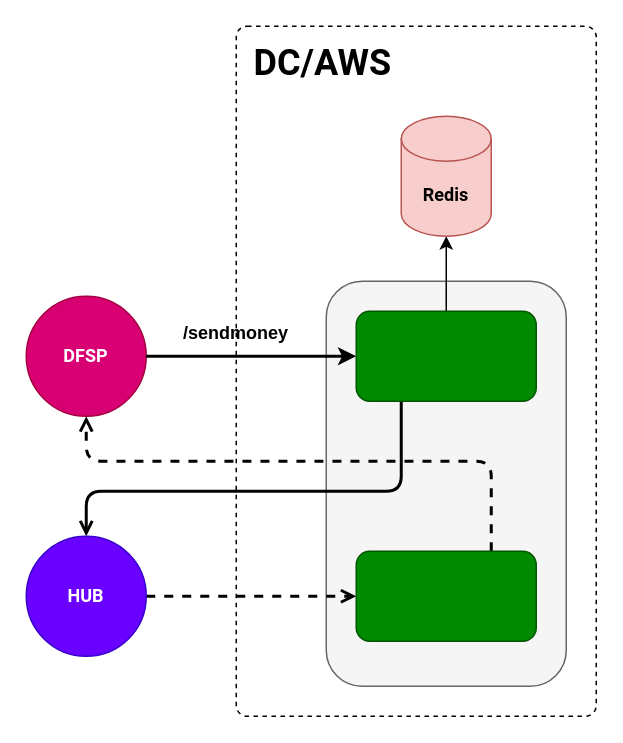
Some shapes in this 623 by 743 pixel diagram are drawn without their labels. The centre of each missing label's shape, as x and y in pixels:
"fsp-connector-api (8080)" belongs at point 445,355.
"hub-connector-api (9090)" belongs at point 445,595.
